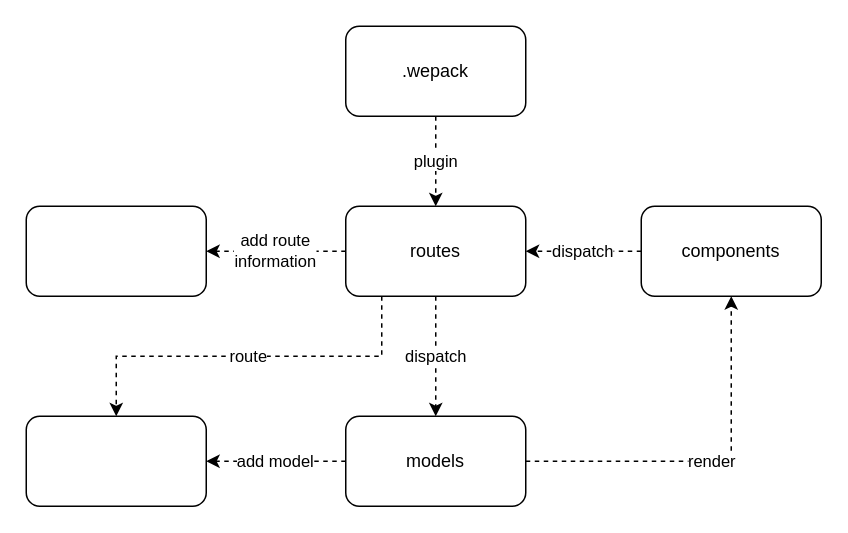
Some shapes in this 848 by 533 pixel diagram are drawn without their labels. Here are the shapes that lost their labels. From the top down, the box of each, then its label:
(25, 205, 206, 296): router
(25, 415, 206, 506): index
